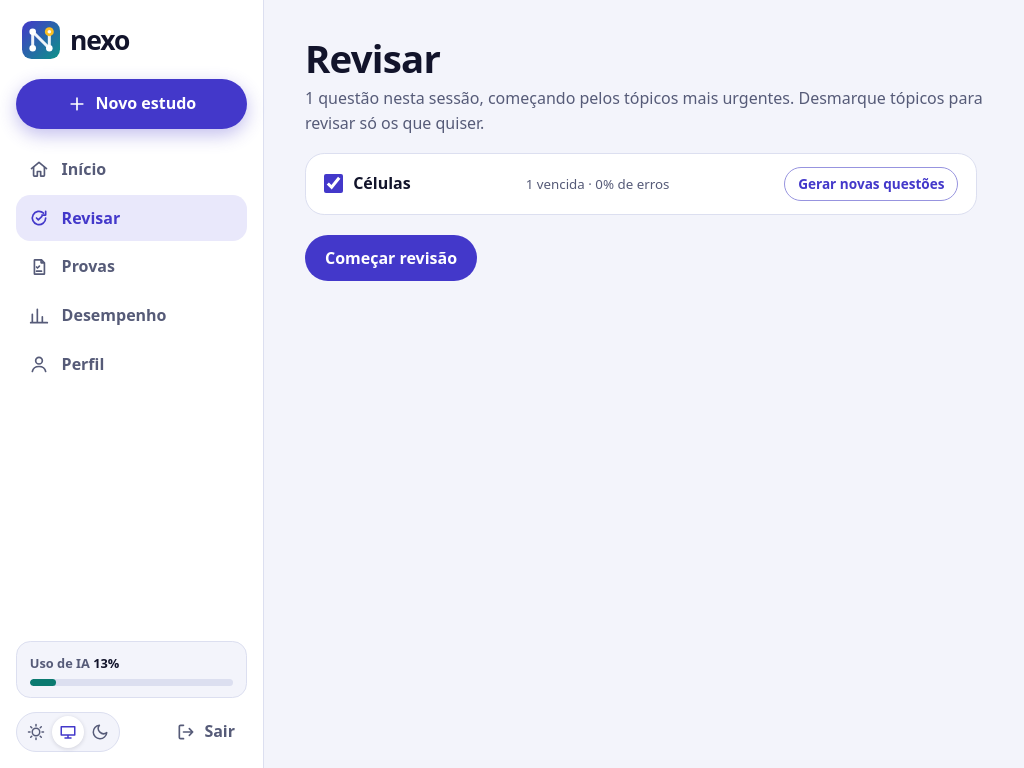
Scenario: revisão: sem nenhum tópico marcado não dá para começar
This screenshot has width=1024, height=768.
Click the checkbox labelled "Células": (333, 184) [324,174,343,194]
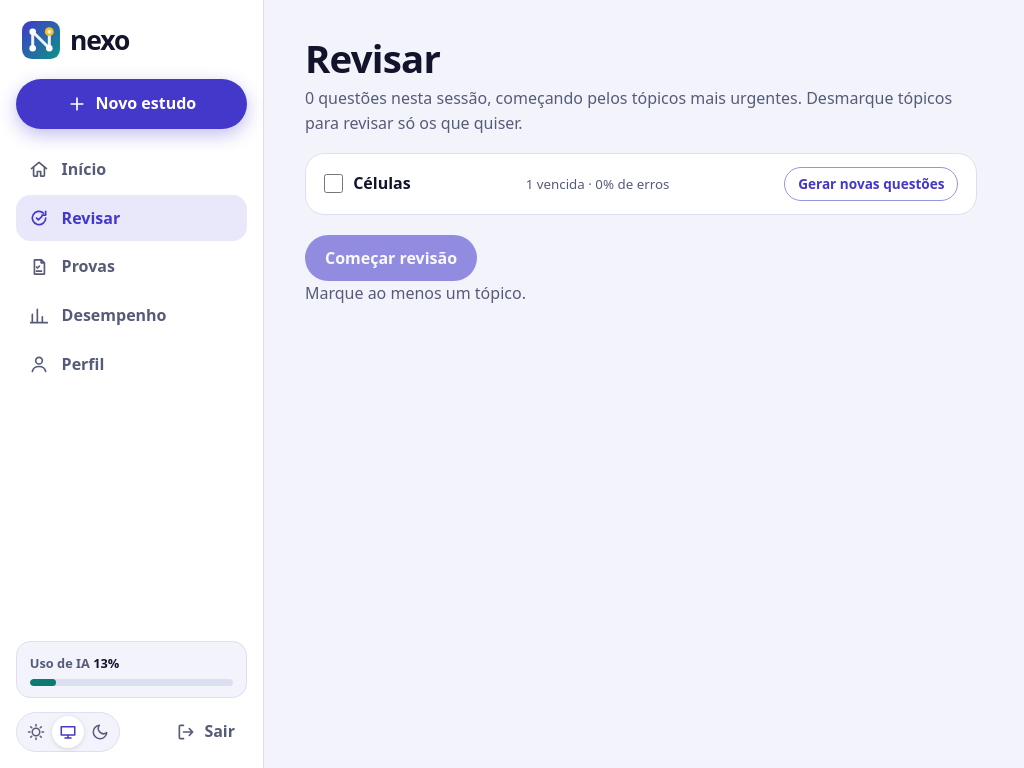
Result: the button "Começar revisão" is disabled at [305,235,477,281]
